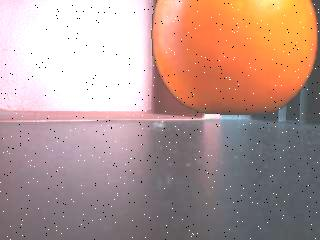Orange: (153, 2, 320, 117)
